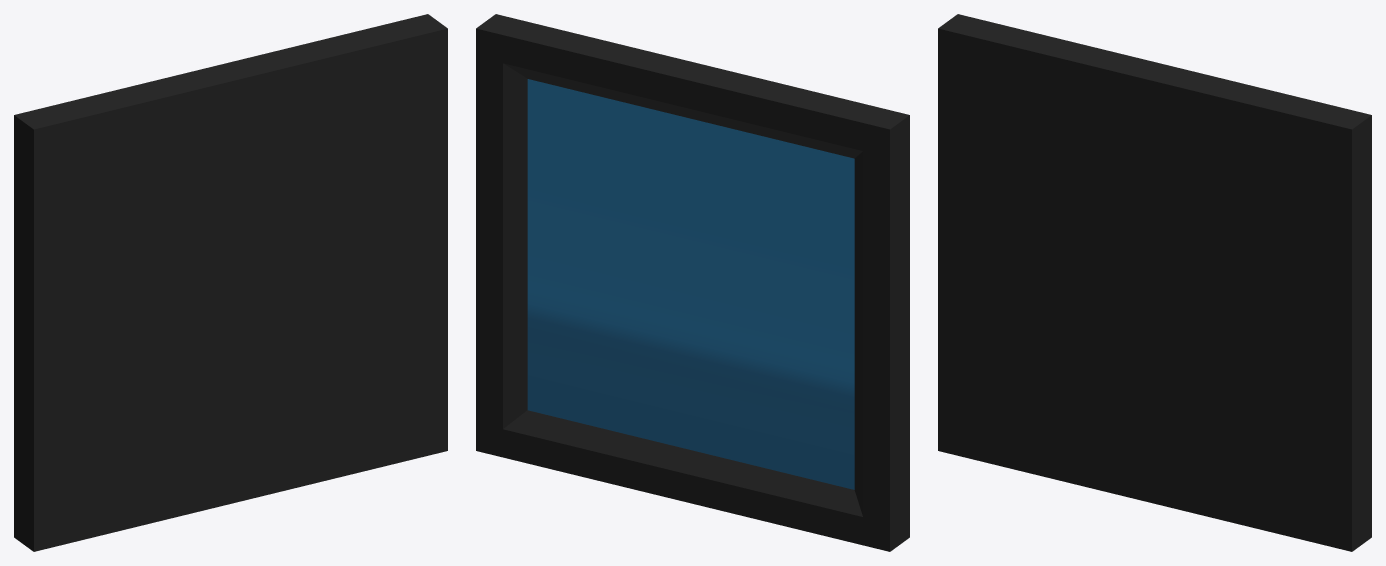
The model's file is tranh3.fbx.
3 renders of one model, left to right at view 1: azimuth 30°, elevation 25°; view 2: azimuth 150°, elevation 25°; view 3: azimuth 330°, elevation 25°, orthographic.
Visible parts, largest first — view 1: tranh3; view 2: tranh3; view 3: tranh3.
Part boxes in pixels (<box>): tranh3: <box>14,14,447,551</box>; tranh3: <box>476,14,909,551</box>; tranh3: <box>938,14,1371,551</box>.
Size of the model in its own units: 178 by 174 by 14.76.
